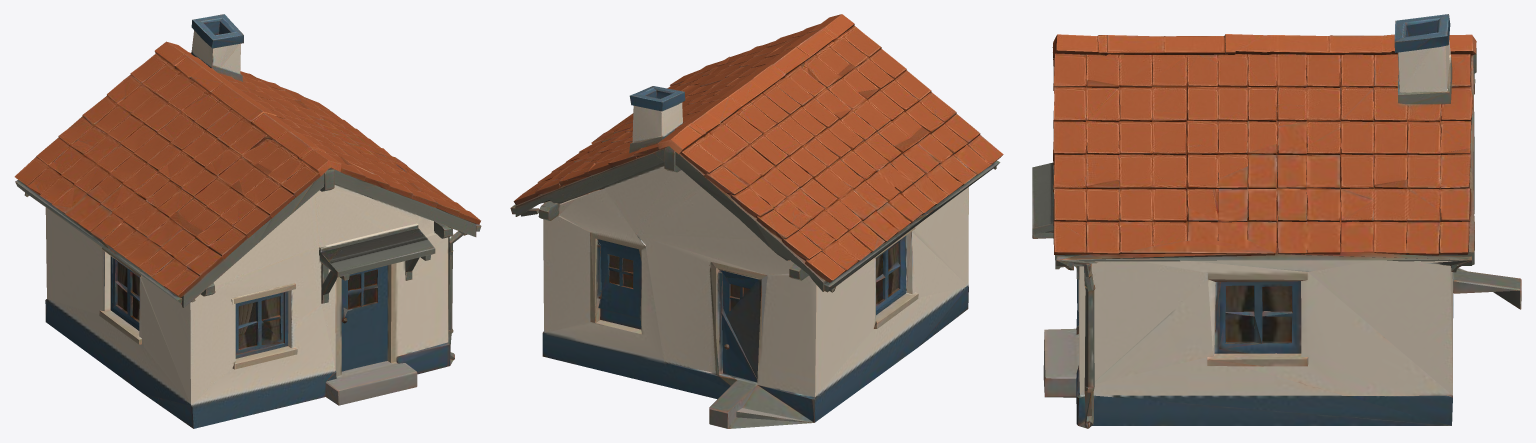
The model's file is angular-common-buildings-small-family-house-compact-normal.glb.
The picture shows the model from 3 angles, left to right: view 1: azimuth 30°, elevation 25°; view 2: azimuth 150°, elevation 25°; view 3: azimuth 270°, elevation 25°; orthographic projection. The views are drawn at different scales.
Parts seen in each view (by area): view 1: Mesh_0; view 2: Mesh_0; view 3: Mesh_0.
Boxes of the visible parts, x1,y1,x2,y2 form: Mesh_0: (14,14,481,428); Mesh_0: (510,14,1003,428); Mesh_0: (1032,14,1521,428).
Bounding box in the file's own units: 2.76 × 2.31 × 3.
Materials: 1 (1 with a texture image).
